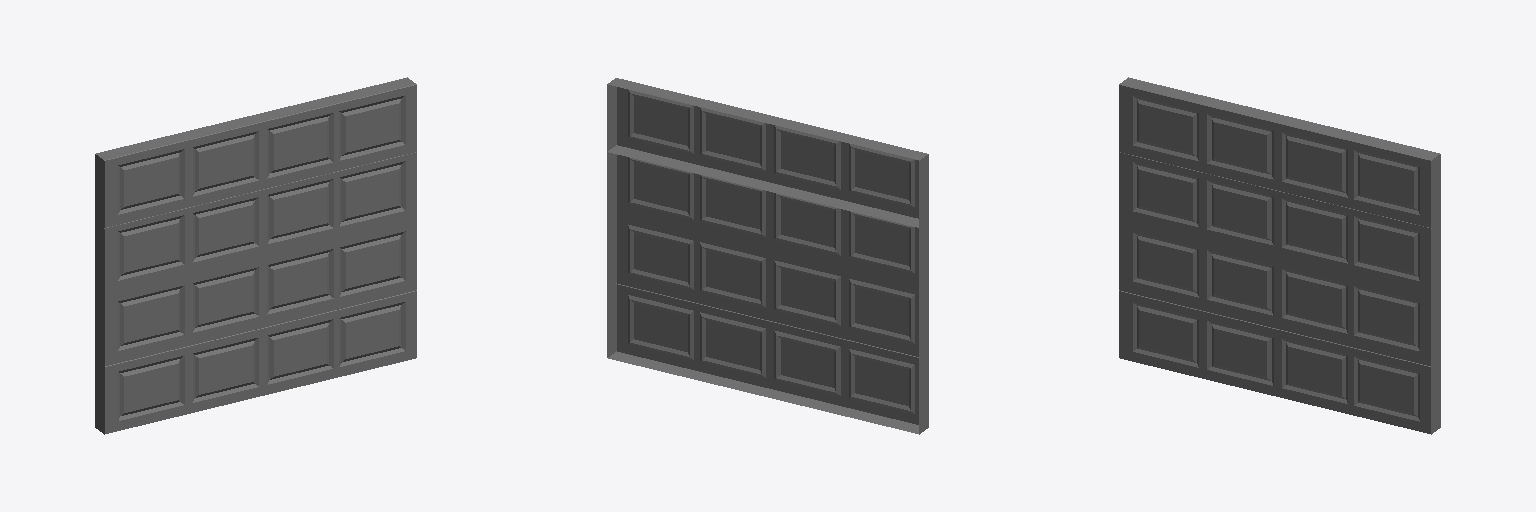
Rendered from garage_9_7_no_window.obj.
The picture shows the model from 3 angles: view 1: azimuth 30°, elevation 25°; view 2: azimuth 150°, elevation 25°; view 3: azimuth 330°, elevation 25°; orthographic projection.
Visible parts, largest first — view 1: Door.001, Door.000; view 2: Door.001, Door.000; view 3: Door.001, Door.000.
Part boxes in pixels (bbox=[...]): Door.001: bbox=[95, 152, 416, 434]; Door.000: bbox=[95, 77, 416, 227]; Door.001: bbox=[607, 152, 928, 434]; Door.000: bbox=[607, 78, 928, 227]; Door.001: bbox=[1119, 152, 1440, 434]; Door.000: bbox=[1119, 77, 1440, 227].
Bounding box in the file's own units: 2.51 × 2.11 × 0.1318.